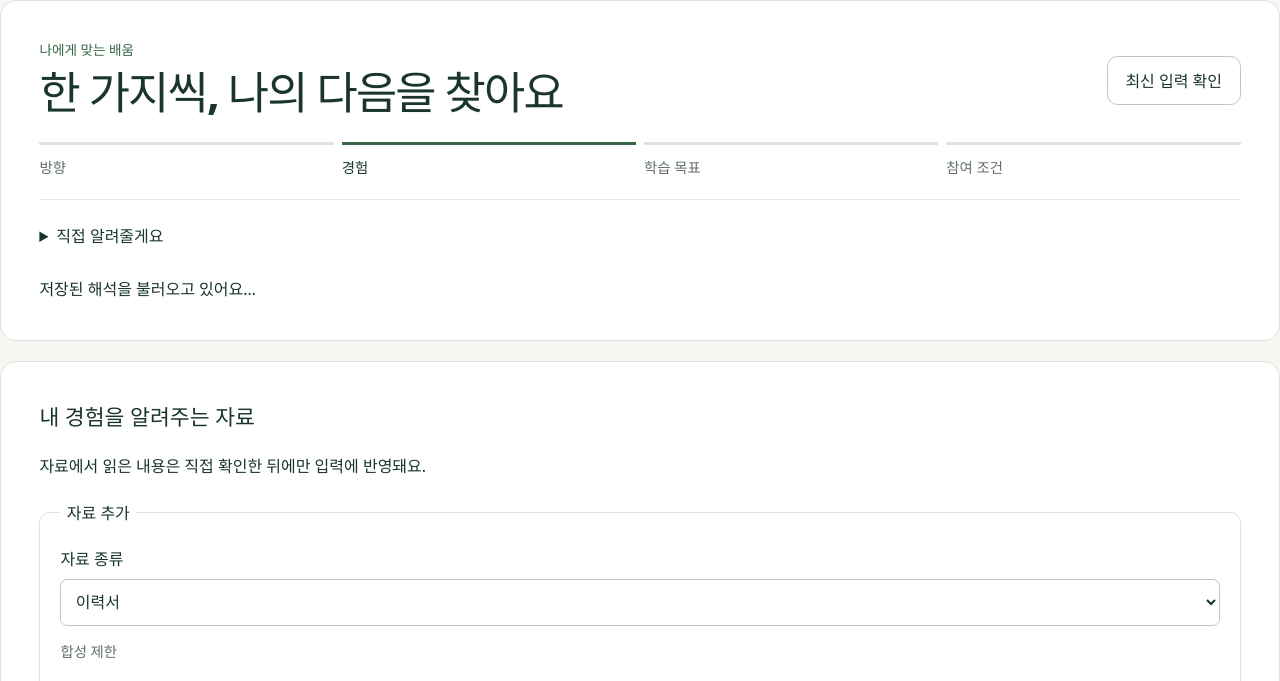
Test: 해석 제안 확인과 수락·거절 › 새 해석 failure 후 중단된 저장 해석을 GET으로 다시 불러온다
Click the heading "직접 알려줄게요".
click(110, 236)  # box [56,225,164,247]
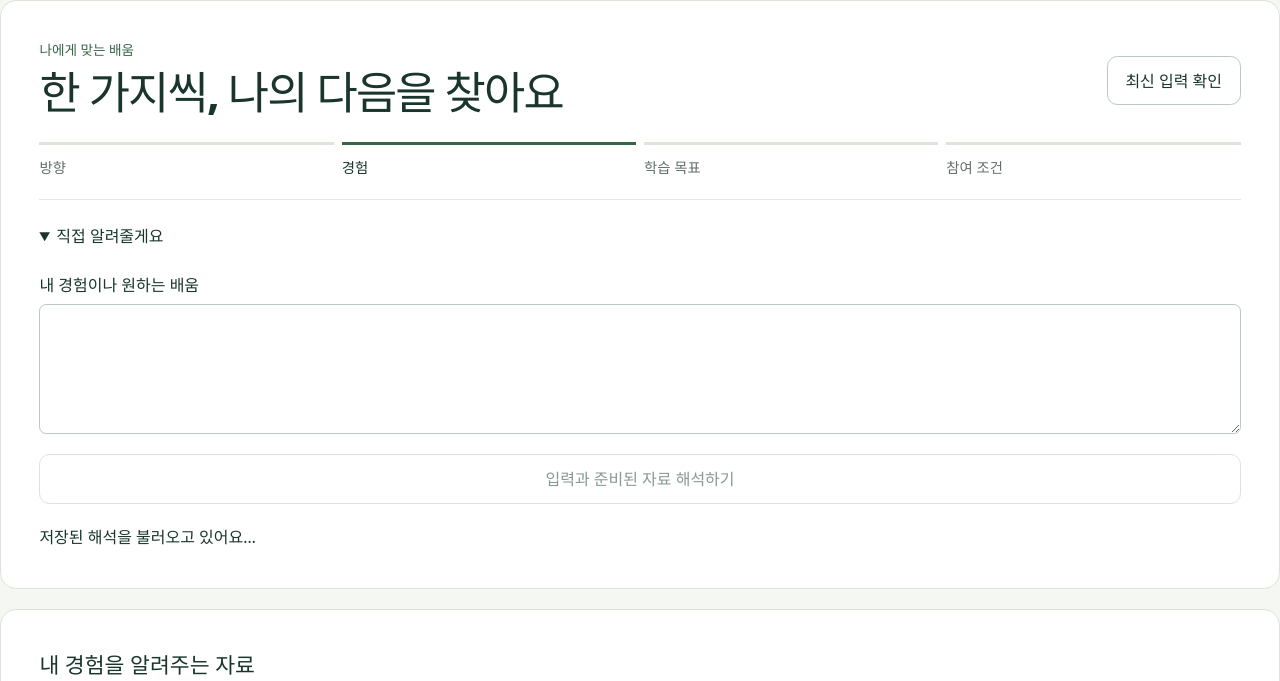
Type "보존할 새 문장" into the text box labelled "내 경험이나 원하는 배움".
click(640, 369); type("보존할 새 문장")  # box [39,304,1241,434]
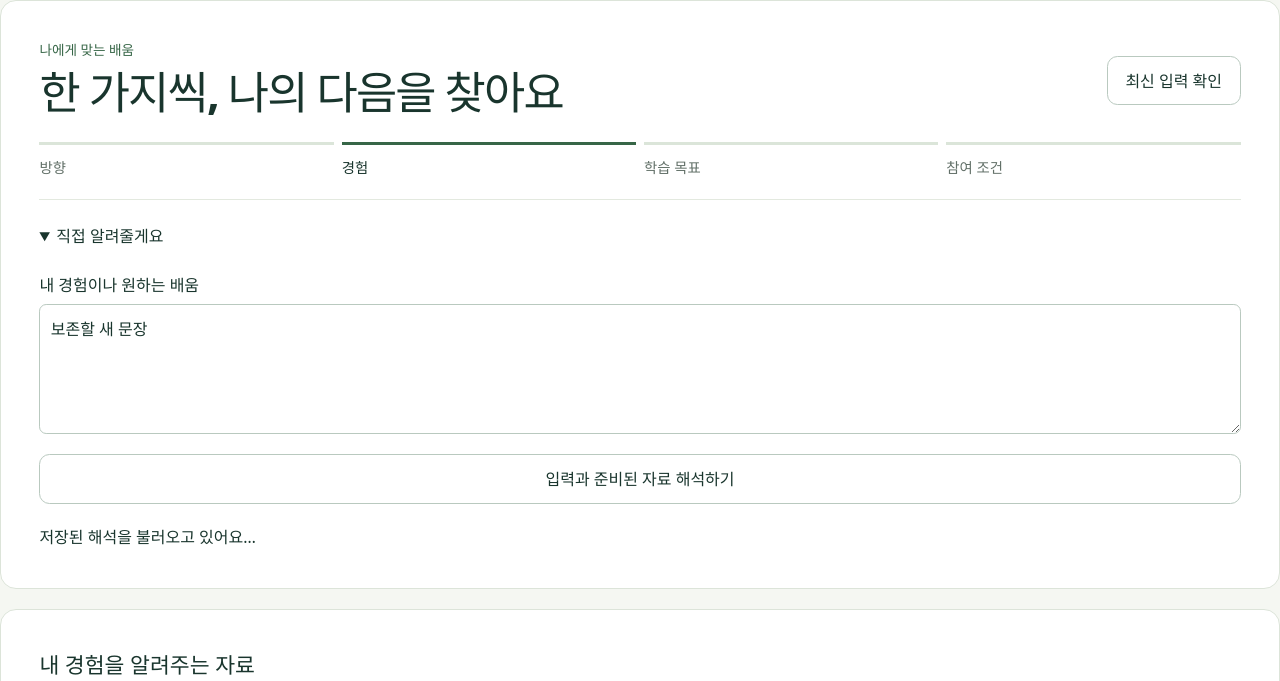
Click the button "입력과 준비된 자료 해석하기".
click(640, 479)  # box [39,454,1241,504]
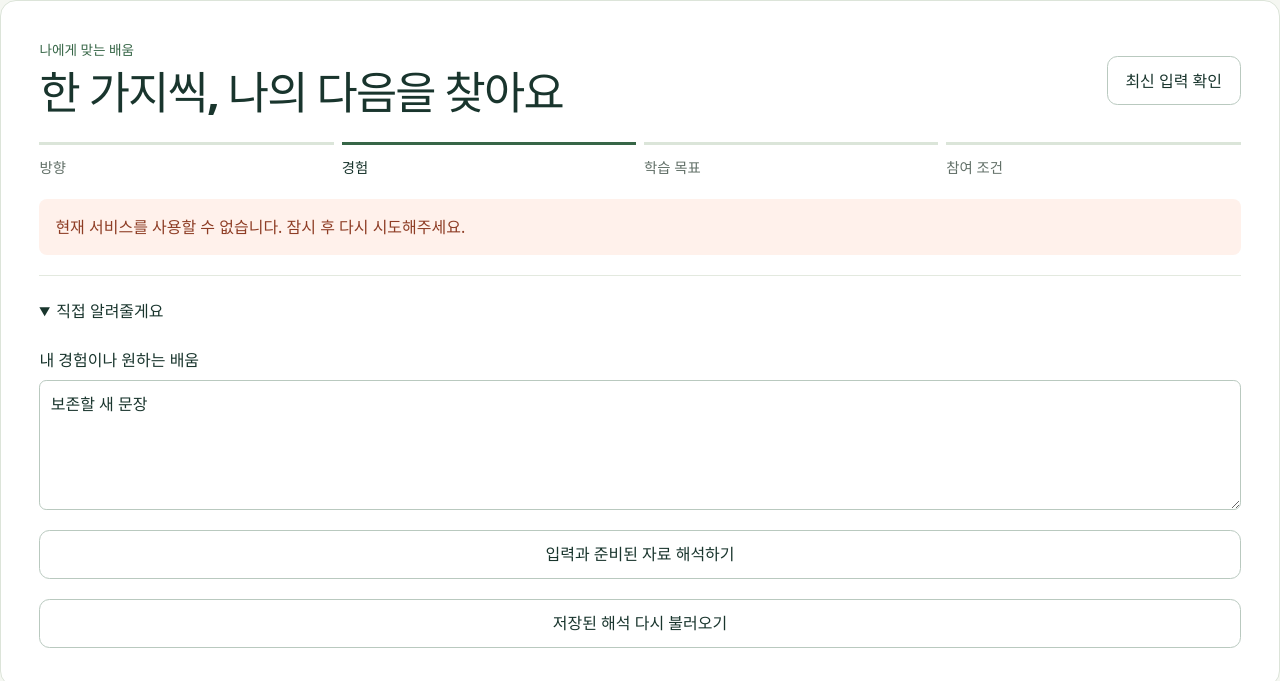
Now the message "현재 서비스를 사용할 수 없습니다. 잠시 후 다시 시도해주세요." is shown, box [39,199,1241,255]
Now the button "저장된 해석 다시 불러오기" is enabled
Click the button "저장된 해석 다시 불러오기".
click(640, 623)  # box [39,599,1241,648]
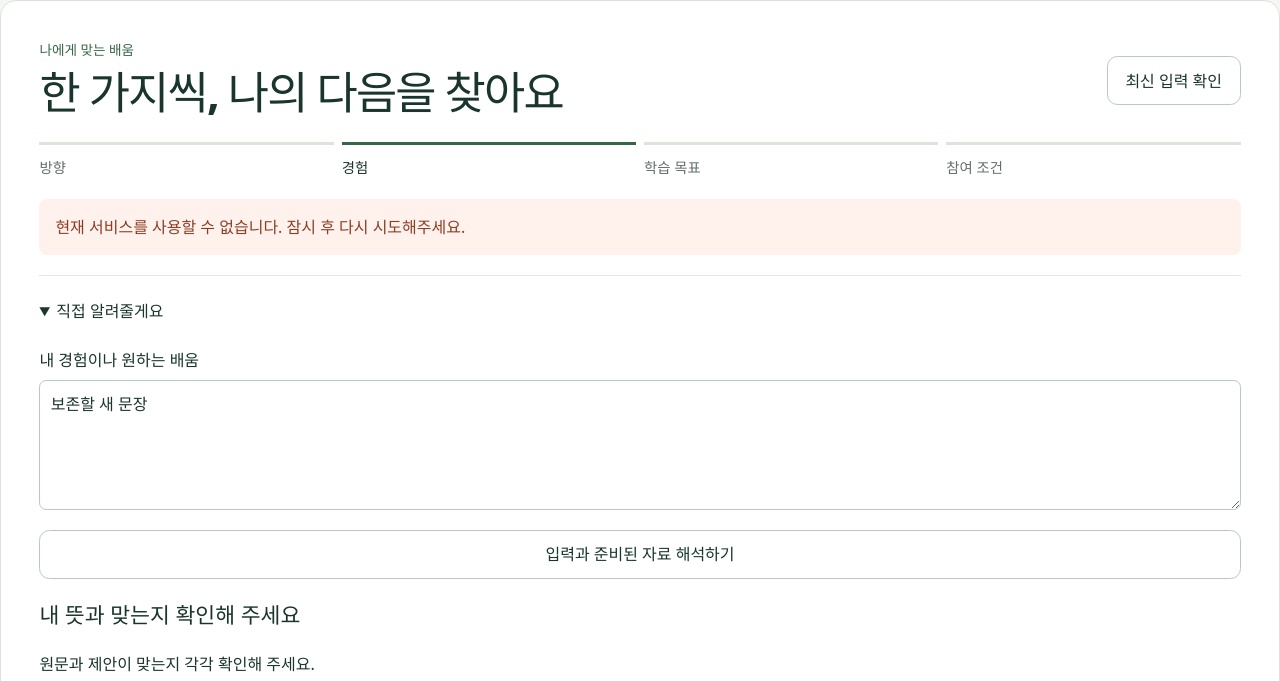
Now the text "원문과 제안이 맞는지 각각 확인해 주세요." is shown, box [39,653,315,675]
